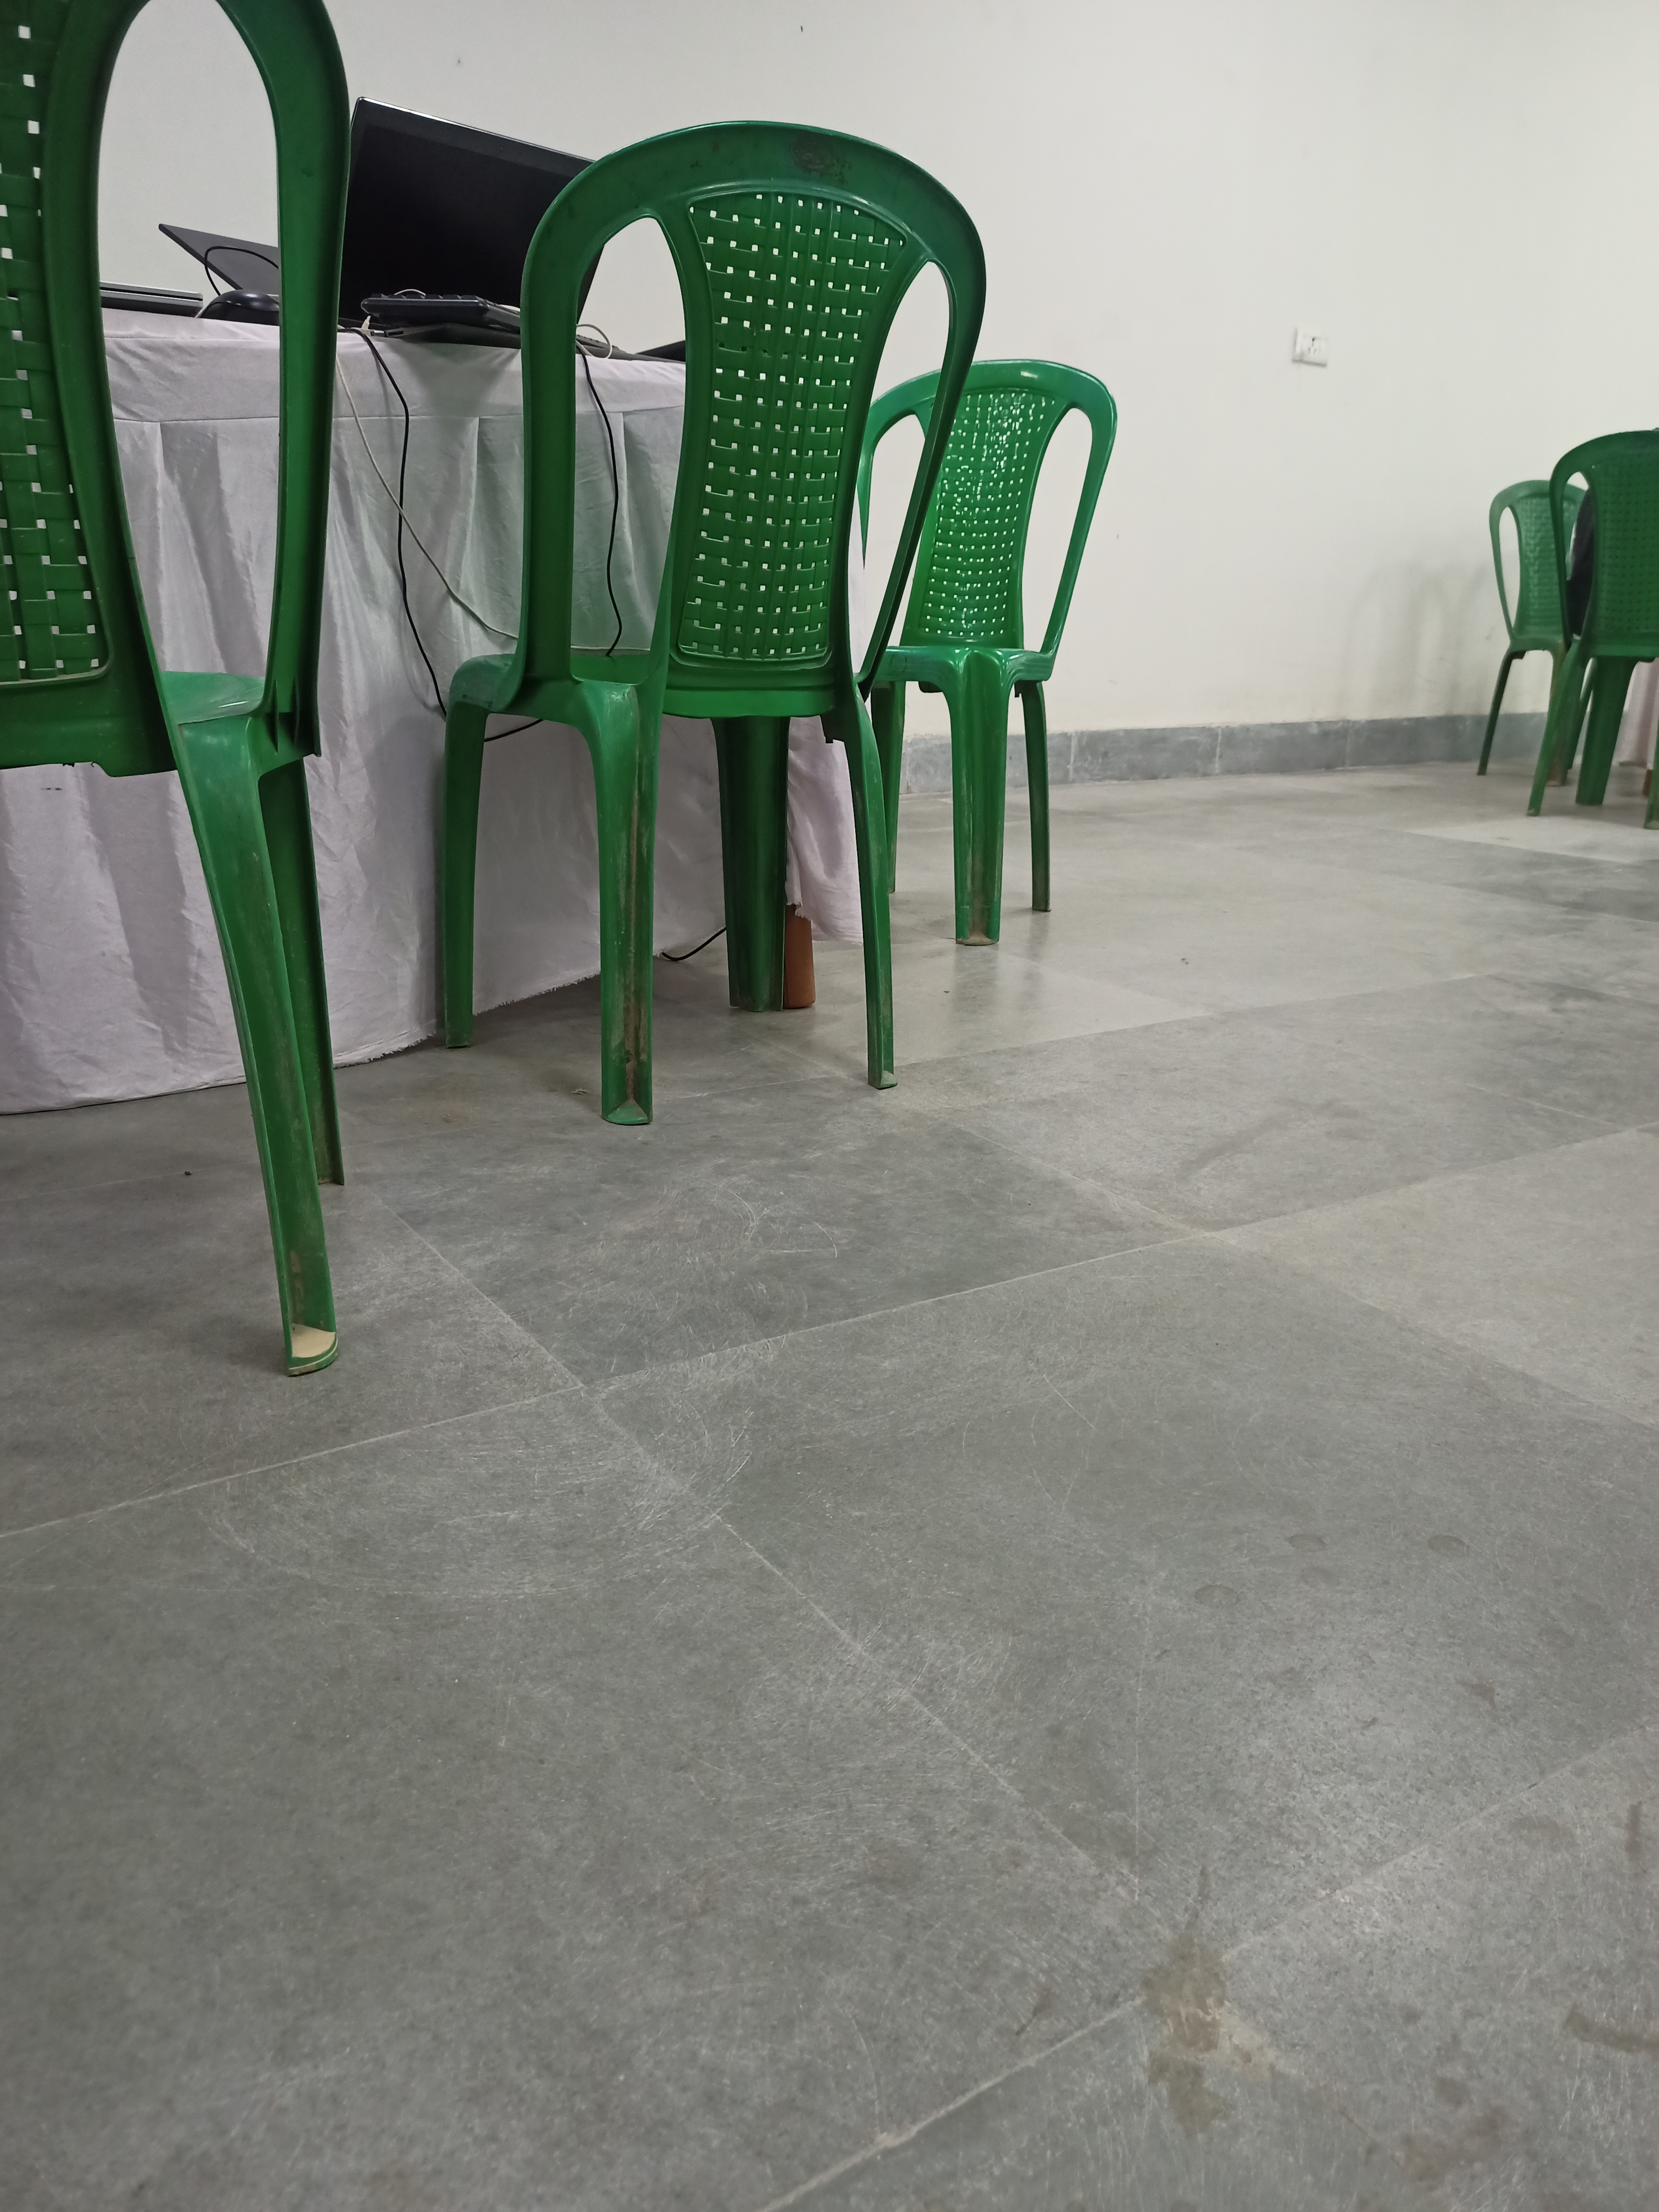Obstacle: (10, 333, 931, 1003)
Path: (295, 1195, 1621, 2181), (1080, 787, 1595, 1188)
